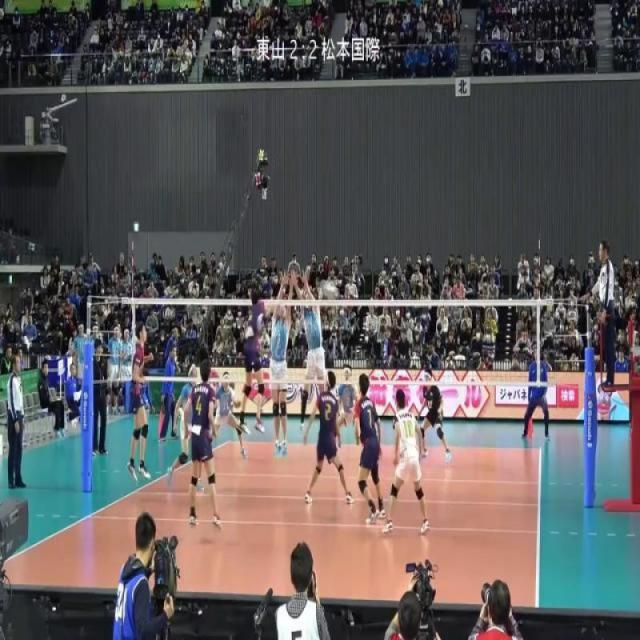volleyball: (322, 282, 338, 300)
